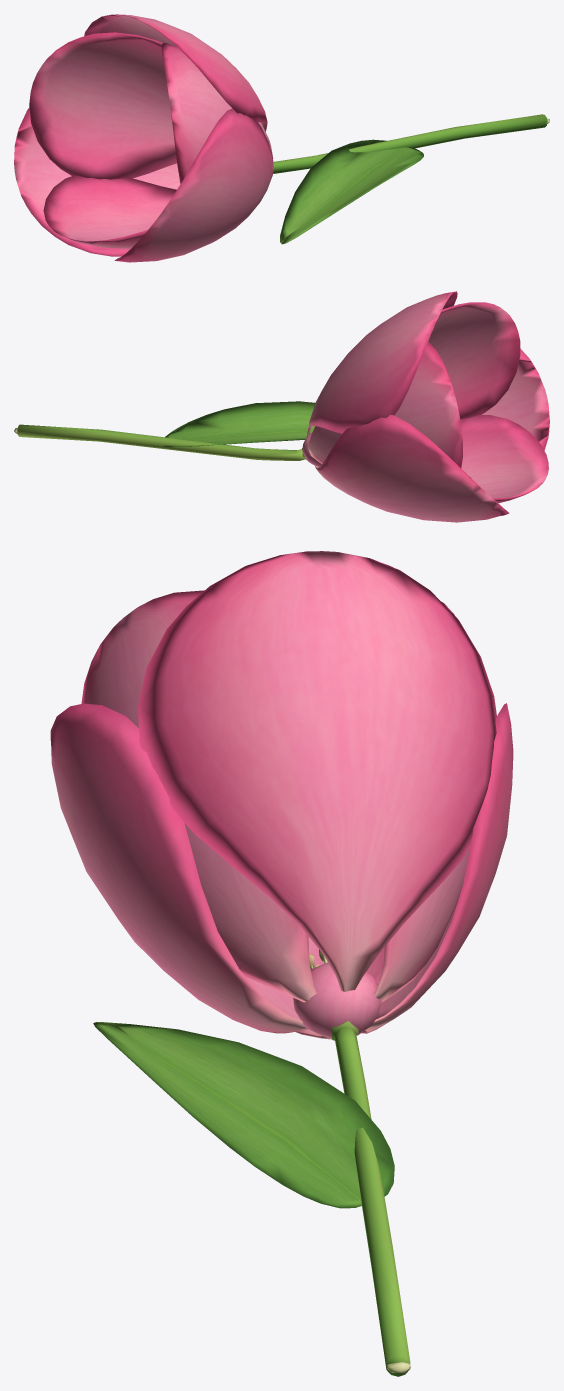
The model's file is NP_Tulip_Harvest_LOD1.fbx.
3 renders of one model, top to bottom at view 1: azimuth 30°, elevation 25°; view 2: azimuth 150°, elevation 25°; view 3: azimuth 270°, elevation 25°, orthographic. The views are drawn at different scales.
Parts seen in each view (by area): view 1: NP_Tulip_Harvest; view 2: NP_Tulip_Harvest; view 3: NP_Tulip_Harvest.
Boxes of the visible parts, bbox=[...] form: NP_Tulip_Harvest: bbox=[14, 14, 549, 262]; NP_Tulip_Harvest: bbox=[14, 291, 549, 522]; NP_Tulip_Harvest: bbox=[50, 551, 513, 1376].
Bounding box in the file's own units: 89.77 × 37.74 × 36.61.
